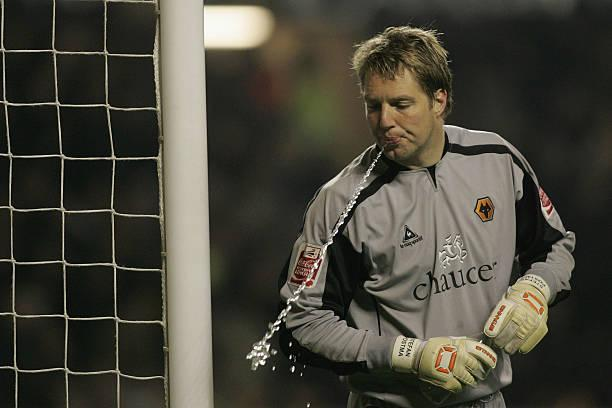Spitting: (310, 14, 483, 207)
